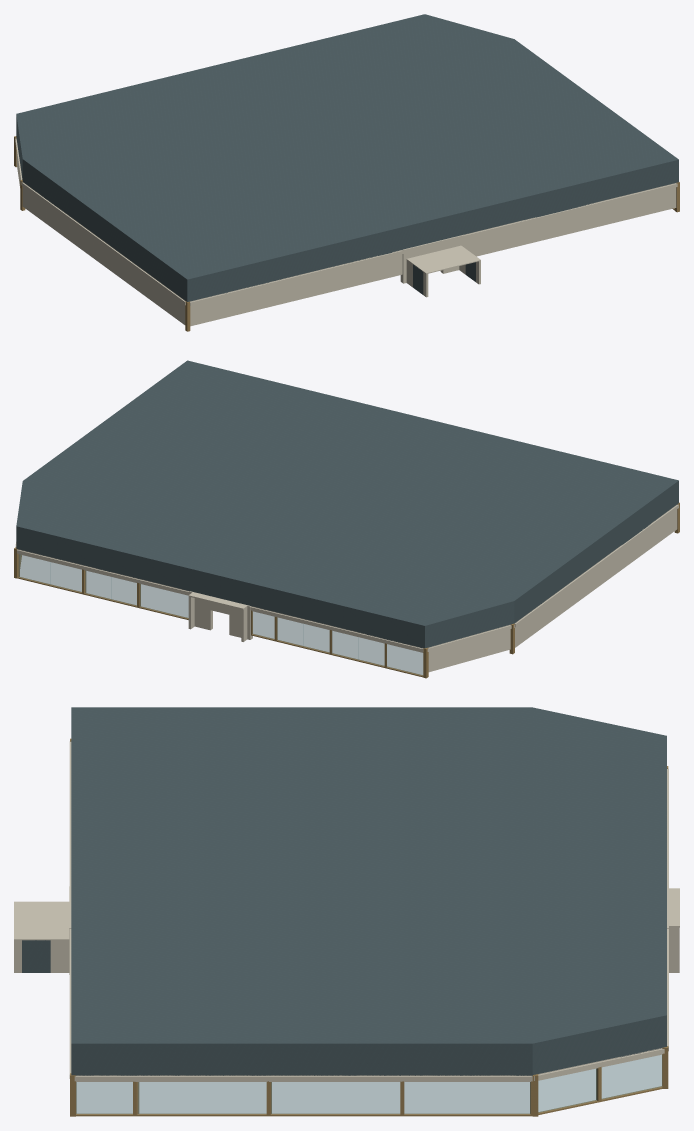
Rendered from AST-CMD-004.glb.
The picture shows the model from 3 angles, top to bottom: view 1: azimuth 30°, elevation 25°; view 2: azimuth 150°, elevation 25°; view 3: azimuth 270°, elevation 25°; orthographic projection. The views are drawn at different scales.
Visible parts, largest first — view 1: BRE_CELL_X-2_Y14_Z-15_ASTRAEA_staff_bluegrey_paint, BRE_CELL_X1_Y14_Z-15_ASTRAEA_staff_bluegrey_paint, BRE_CELL_X-1_Y13_Z-15_ASTRAEA_ivory_enamel, BRE_CELL_X-5_Y14_Z-16_ASTRAEA_staff_bluegrey_paint, BRE_CELL_X-5_Y14_Z-19_ASTRAEA_staff_bluegrey_paint, BRE_CELL_X0_Y13_Z-15_ASTRAEA_ivory_enamel, BRE_CELL_X-3_Y13_Z-15_ASTRAEA_ivory_enamel, BRE_CELL_X2_Y13_Z-15_ASTRAEA_ivory_enamel, BRE_CELL_X2_Y14_Z-20_ASTRAEA_staff_bluegrey_paint, BRE_CELL_X3_Y14_Z-18_ASTRAEA_staff_bluegrey_paint, BRE_CELL_X3_Y14_Z-16_ASTRAEA_staff_bluegrey_paint, BRE_CELL_X-2_Y14_Z-20_ASTRAEA_staff_bluegrey_paint (+80 smaller); view 2: BRE_CELL_X-2_Y14_Z-22_ASTRAEA_staff_bluegrey_paint, BRE_CELL_X1_Y14_Z-22_ASTRAEA_staff_bluegrey_paint, BRE_CELL_X-4_Y14_Z-22_ASTRAEA_staff_bluegrey_paint, BRE_CELL_X-5_Y14_Z-19_ASTRAEA_staff_bluegrey_paint, BRE_CELL_X-5_Y14_Z-16_ASTRAEA_staff_bluegrey_paint, BRE_CELL_X0_Y14_Z-22_ASTRAEA_staff_bluegrey_paint, BRE_CELL_X-1_Y14_Z-22_ASTRAEA_staff_bluegrey_paint, BRE_CELL_X-3_Y14_Z-22_ASTRAEA_staff_bluegrey_paint, BRE_CELL_X-5_Y14_Z-21_ASTRAEA_staff_bluegrey_paint, BRE_CELL_X2_Y14_Z-22_ASTRAEA_staff_bluegrey_paint, BRE_CELL_X1_Y14_Z-21_ASTRAEA_staff_bluegrey_paint, BRE_CELL_X-1_Y14_Z-19_ASTRAEA_staff_bluegrey_paint (+71 smaller); view 3: BRE_CELL_X4_Y14_Z-19_ASTRAEA_staff_bluegrey_paint, BRE_CELL_X4_Y14_Z-16_ASTRAEA_staff_bluegrey_paint, BRE_CELL_X4_Y13_Z-19_ASTRAEA_bridge_pressure_glass, BRE_CELL_X4_Y13_Z-16_ASTRAEA_bridge_pressure_glass, BRE_CELL_X4_Y14_Z-20_ASTRAEA_staff_bluegrey_paint, BRE_CELL_X4_Y14_Z-17_ASTRAEA_staff_bluegrey_paint, BRE_CELL_X4_Y14_Z-18_ASTRAEA_staff_bluegrey_paint, BRE_CELL_X4_Y14_Z-21_ASTRAEA_staff_bluegrey_paint, BRE_CELL_X-3_Y14_Z-21_ASTRAEA_staff_bluegrey_paint, BRE_CELL_X-3_Y14_Z-17_ASTRAEA_staff_bluegrey_paint, BRE_CELL_X-1_Y14_Z-21_ASTRAEA_staff_bluegrey_paint, BRE_CELL_X-1_Y14_Z-17_ASTRAEA_staff_bluegrey_paint (+81 smaller).
Boxes of the visible parts, x1=… form: BRE_CELL_X-2_Y14_Z-15_ASTRAEA_staff_bluegrey_paint: x1=310, y1=227, x2=392, y2=271; BRE_CELL_X1_Y14_Z-15_ASTRAEA_staff_bluegrey_paint: x1=474, y1=187, x2=556, y2=231; BRE_CELL_X-1_Y13_Z-15_ASTRAEA_ivory_enamel: x1=367, y1=242, x2=453, y2=297; BRE_CELL_X-5_Y14_Z-16_ASTRAEA_staff_bluegrey_paint: x1=140, y1=244, x2=205, y2=301; BRE_CELL_X-5_Y14_Z-19_ASTRAEA_staff_bluegrey_paint: x1=46, y1=175, x2=110, y2=232; BRE_CELL_X0_Y13_Z-15_ASTRAEA_ivory_enamel: x1=433, y1=226, x2=499, y2=284; BRE_CELL_X-3_Y13_Z-15_ASTRAEA_ivory_enamel: x1=259, y1=266, x2=336, y2=309; BRE_CELL_X2_Y13_Z-15_ASTRAEA_ivory_enamel: x1=531, y1=200, x2=607, y2=241; BRE_CELL_X2_Y14_Z-20_ASTRAEA_staff_bluegrey_paint: x1=377, y1=58, x2=463, y2=94; BRE_CELL_X3_Y14_Z-18_ASTRAEA_staff_bluegrey_paint: x1=495, y1=91, x2=581, y2=127; BRE_CELL_X3_Y14_Z-16_ASTRAEA_staff_bluegrey_paint: x1=559, y1=137, x2=644, y2=173; BRE_CELL_X-2_Y14_Z-20_ASTRAEA_staff_bluegrey_paint: x1=158, y1=111, x2=243, y2=148; BRE_CELL_X-2_Y14_Z-22_ASTRAEA_staff_bluegrey_paint: x1=261, y1=578, x2=344, y2=628; BRE_CELL_X1_Y14_Z-22_ASTRAEA_staff_bluegrey_paint: x1=98, y1=538, x2=180, y2=588; BRE_CELL_X-4_Y14_Z-22_ASTRAEA_staff_bluegrey_paint: x1=384, y1=605, x2=454, y2=648; BRE_CELL_X-5_Y14_Z-19_ASTRAEA_staff_bluegrey_paint: x1=519, y1=549, x2=584, y2=605; BRE_CELL_X-5_Y14_Z-16_ASTRAEA_staff_bluegrey_paint: x1=614, y1=479, x2=678, y2=537; BRE_CELL_X0_Y14_Z-22_ASTRAEA_staff_bluegrey_paint: x1=165, y1=551, x2=235, y2=598; BRE_CELL_X-1_Y14_Z-22_ASTRAEA_staff_bluegrey_paint: x1=220, y1=565, x2=289, y2=608; BRE_CELL_X-3_Y14_Z-22_ASTRAEA_staff_bluegrey_paint: x1=330, y1=591, x2=399, y2=638; BRE_CELL_X-5_Y14_Z-21_ASTRAEA_staff_bluegrey_paint: x1=454, y1=595, x2=514, y2=639; BRE_CELL_X2_Y14_Z-22_ASTRAEA_staff_bluegrey_paint: x1=56, y1=525, x2=125, y2=568; BRE_CELL_X1_Y14_Z-21_ASTRAEA_staff_bluegrey_paint: x1=126, y1=515, x2=212, y2=551; BRE_CELL_X-1_Y14_Z-19_ASTRAEA_staff_bluegrey_paint: x1=299, y1=495, x2=385, y2=531; BRE_CELL_X4_Y14_Z-19_ASTRAEA_staff_bluegrey_paint: x1=335, y1=1025, x2=466, y2=1075; BRE_CELL_X4_Y14_Z-16_ASTRAEA_staff_bluegrey_paint: x1=71, y1=1025, x2=204, y2=1075; BRE_CELL_X4_Y13_Z-19_ASTRAEA_bridge_pressure_glass: x1=336, y1=1082, x2=467, y2=1113; BRE_CELL_X4_Y13_Z-16_ASTRAEA_bridge_pressure_glass: x1=76, y1=1082, x2=202, y2=1113; BRE_CELL_X4_Y14_Z-20_ASTRAEA_staff_bluegrey_paint: x1=447, y1=1025, x2=535, y2=1075; BRE_CELL_X4_Y14_Z-17_ASTRAEA_staff_bluegrey_paint: x1=180, y1=1025, x2=270, y2=1075; BRE_CELL_X4_Y14_Z-18_ASTRAEA_staff_bluegrey_paint: x1=269, y1=1025, x2=357, y2=1075; BRE_CELL_X4_Y14_Z-21_ASTRAEA_staff_bluegrey_paint: x1=532, y1=1024, x2=622, y2=1074; BRE_CELL_X-3_Y14_Z-21_ASTRAEA_staff_bluegrey_paint: x1=535, y1=763, x2=624, y2=800; BRE_CELL_X-3_Y14_Z-17_ASTRAEA_staff_bluegrey_paint: x1=180, y1=763, x2=269, y2=800; BRE_CELL_X-1_Y14_Z-21_ASTRAEA_staff_bluegrey_paint: x1=535, y1=838, x2=624, y2=875; BRE_CELL_X-1_Y14_Z-17_ASTRAEA_staff_bluegrey_paint: x1=180, y1=838, x2=269, y2=875.
Bounding box in the file's own units: 72.03 × 7.82 × 60.04.
Materials: 6 (5 with a texture image).
